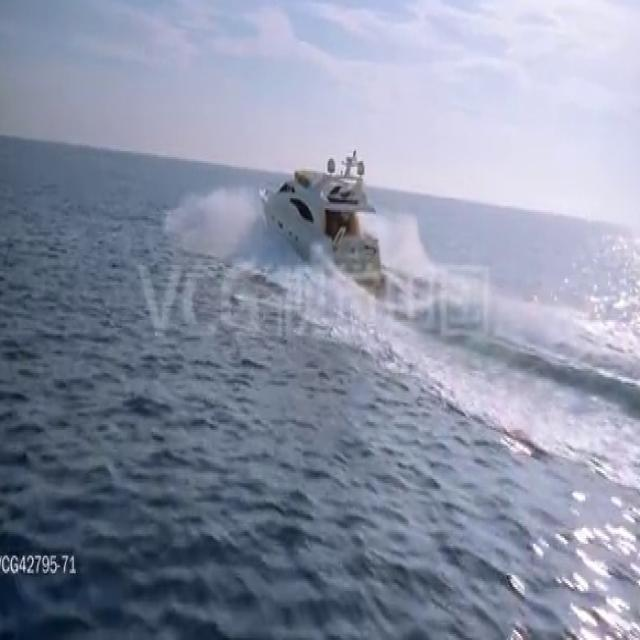houseboat: (261, 147, 384, 292)
